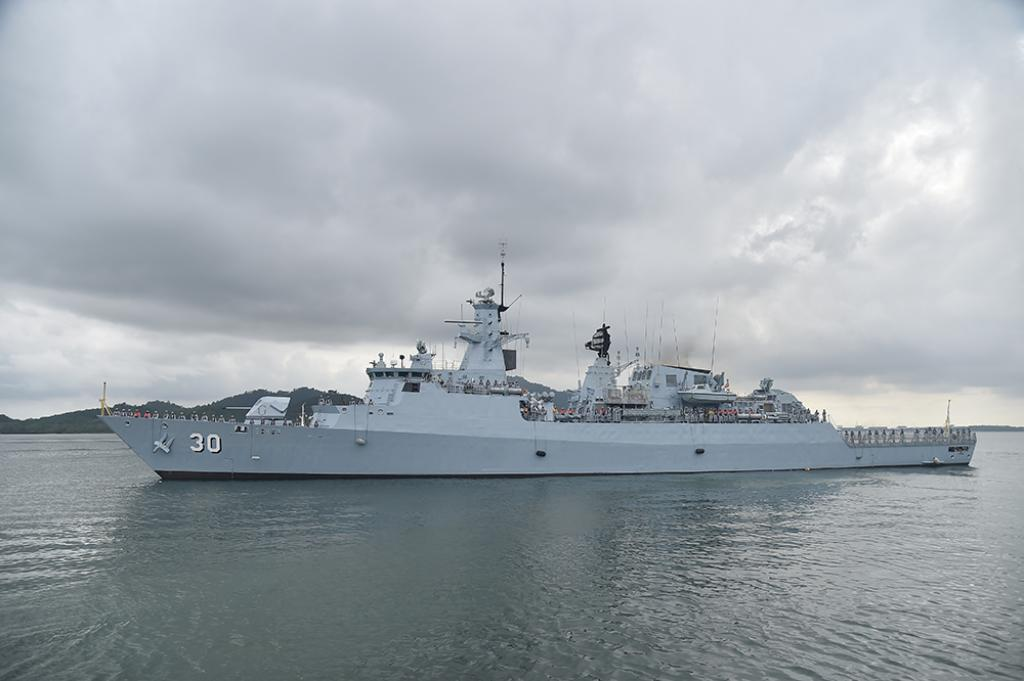Warship: (88, 240, 986, 481)
